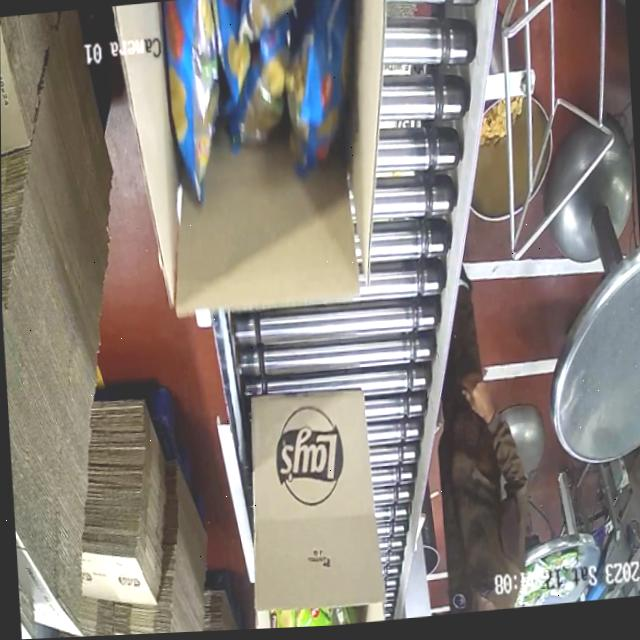PAPRIKA: (165, 0, 363, 204)
